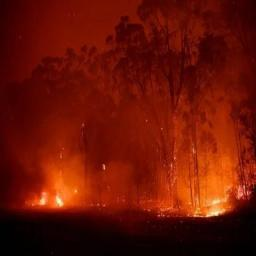Low smoke: (0, 0, 252, 198)
Small fire: (0, 20, 255, 225)
